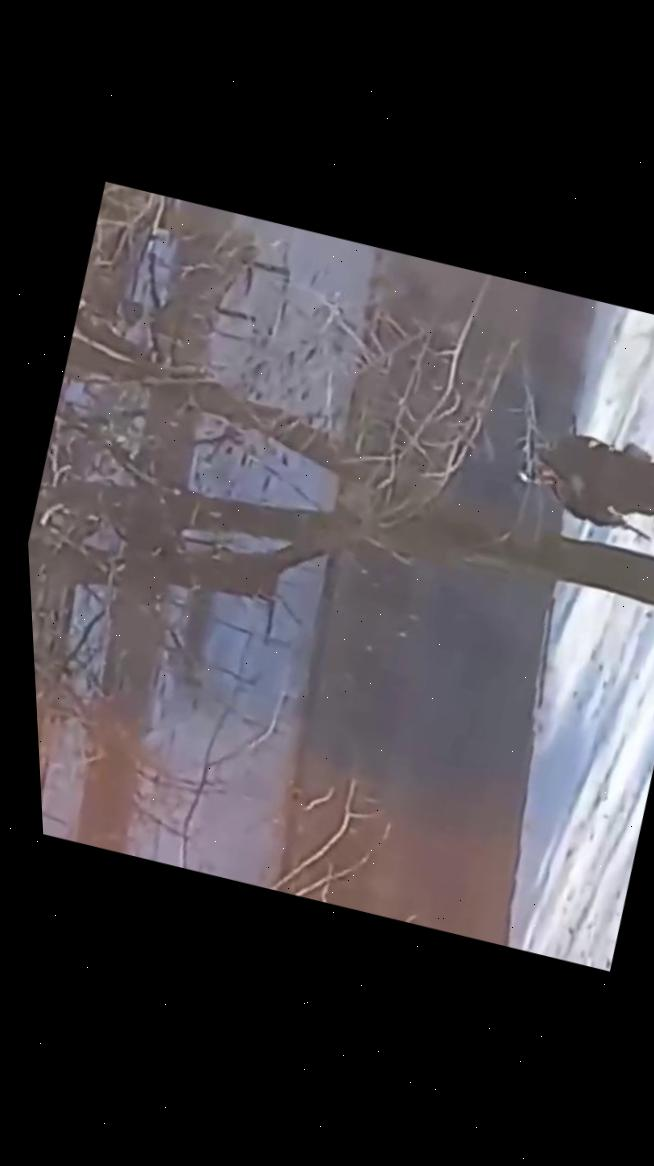person: (501, 411, 654, 554)
